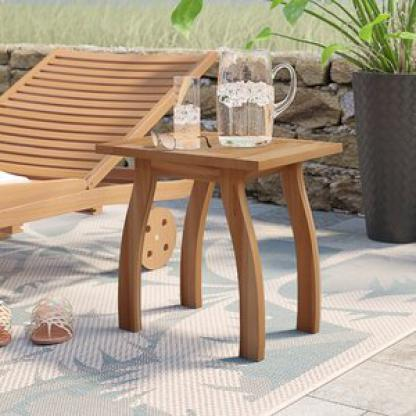table: (93, 123, 347, 366)
